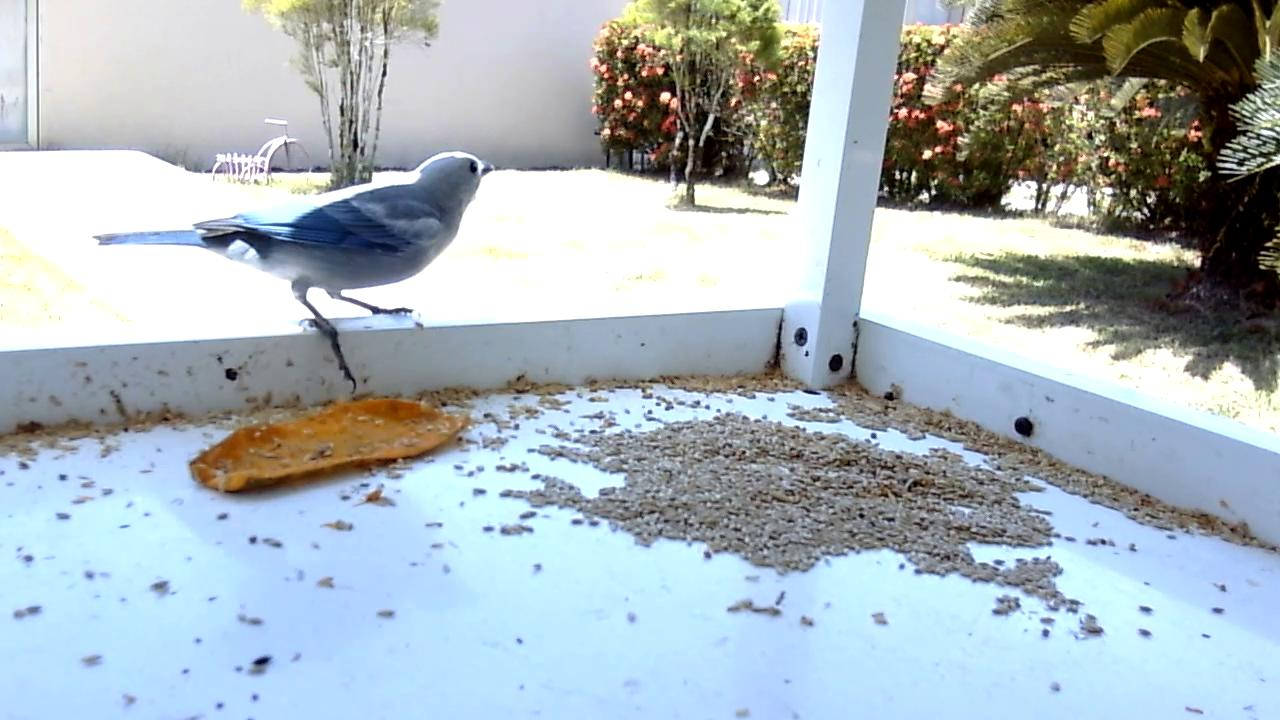sanhaco_da_amazonia: (95, 150, 497, 394)
